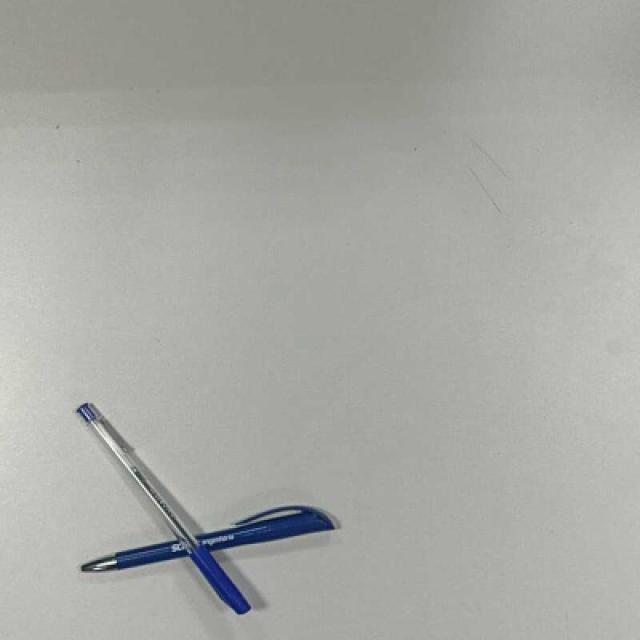caneta: (70, 402, 254, 622), (76, 497, 336, 576)
